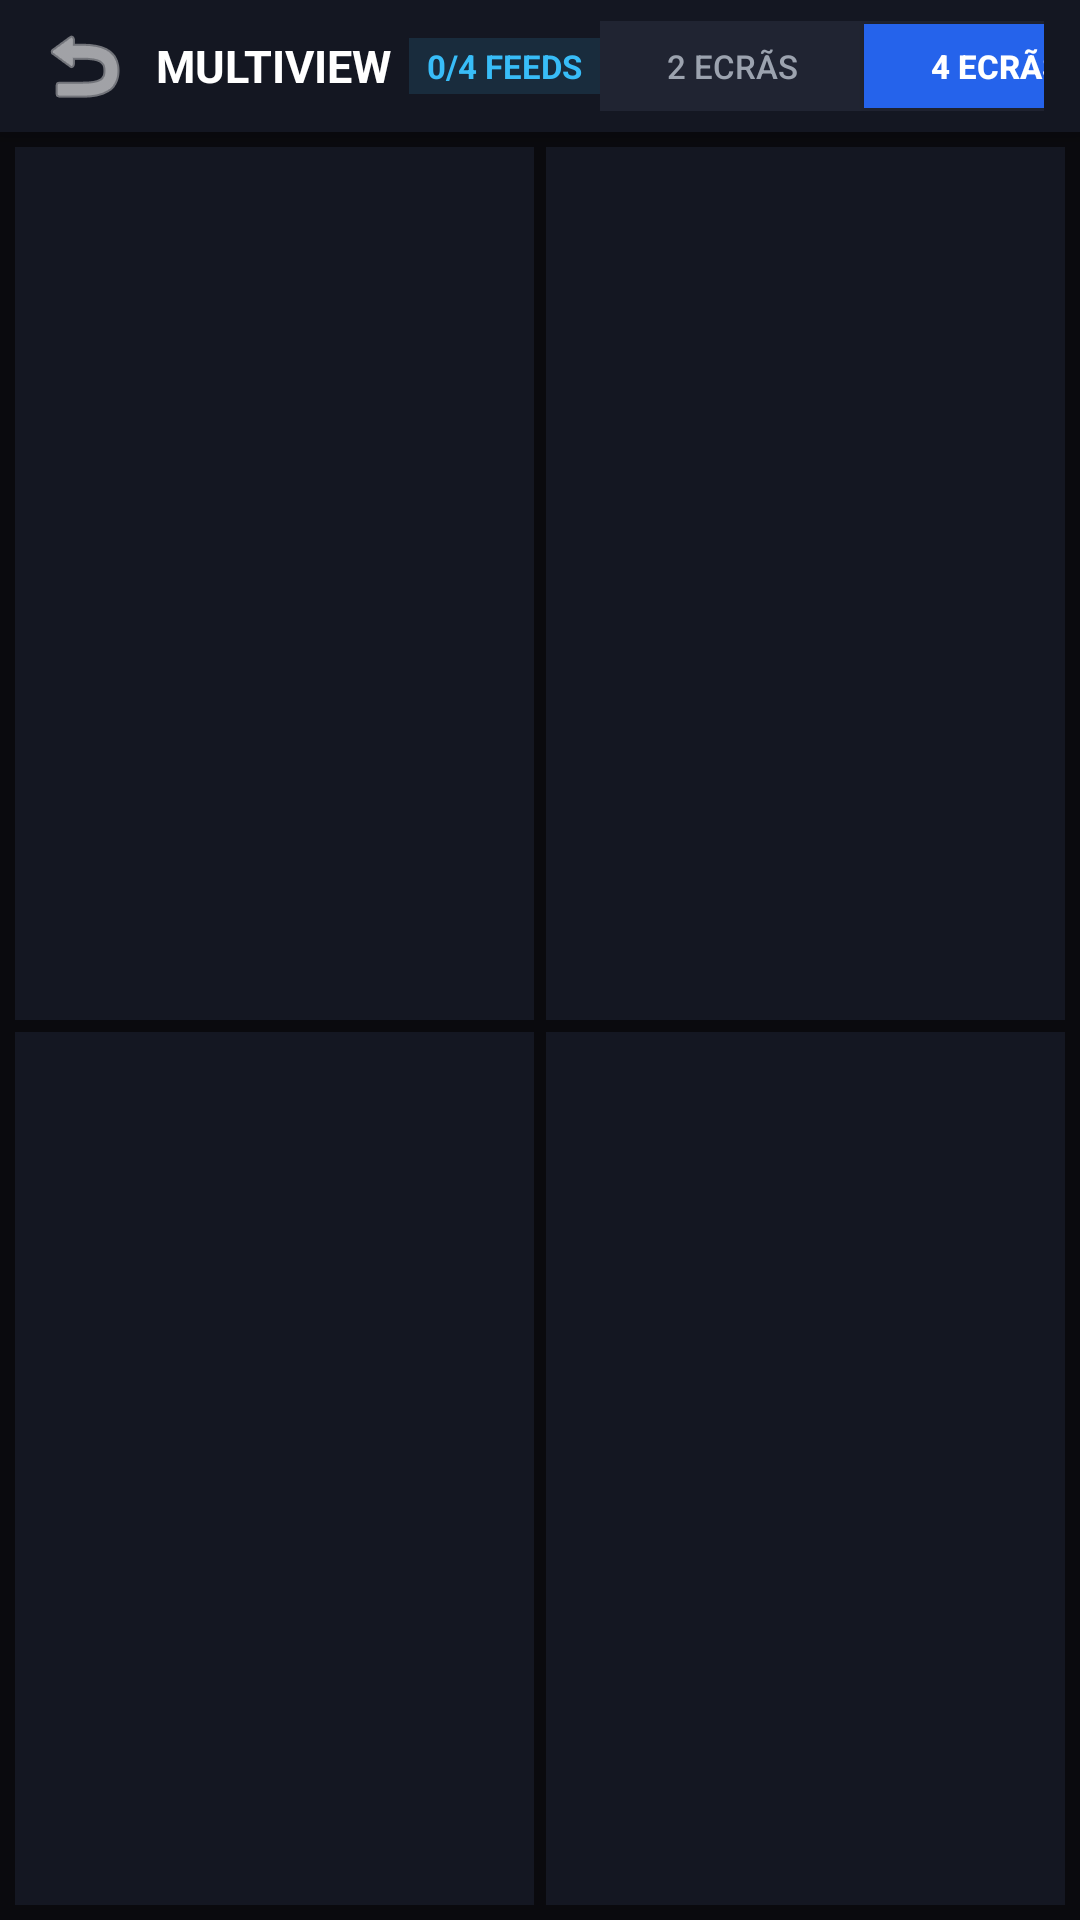

Named icons in this screenshot (1080x1920) and their bounding boxes, [x1,y1,x2,y2]:
Voltar: [51,35,120,98]
